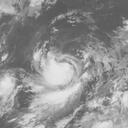cyclone: (18, 46, 92, 115)
